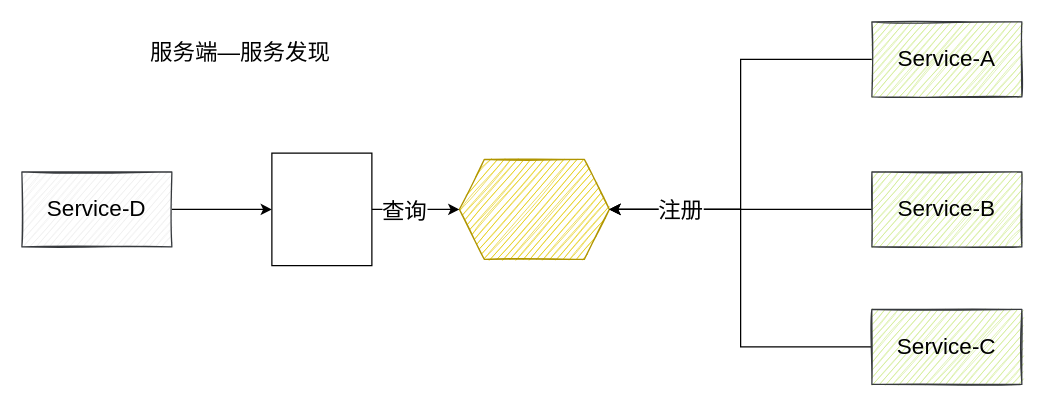
Some shapes in this 1044 by 406 pixel diagram are drawn without their labels. Here are the shapes that lost their labels. From the top down, the centre of each, then its label:
point (321, 209): 服务端负载均衡
point (533, 208): 注册中心
